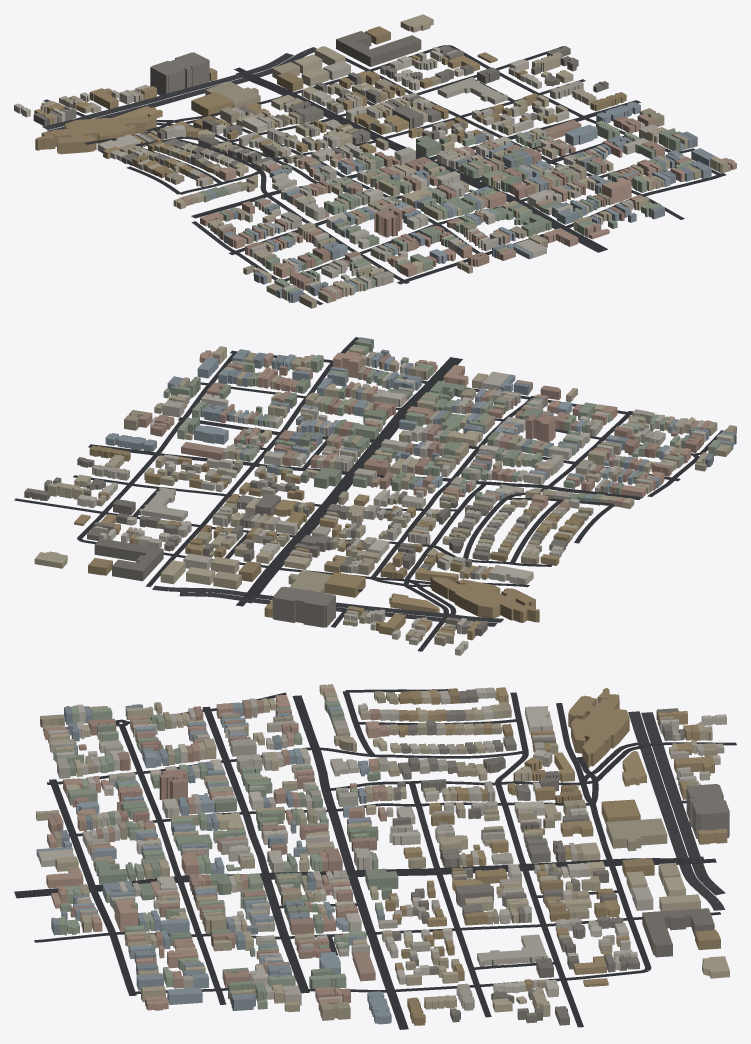
Rendered from tile_9_12.glb.
3 views of the same model, one above another, from view 1: azimuth 30°, elevation 25°; view 2: azimuth 150°, elevation 25°; view 3: azimuth 270°, elevation 25° (orthographic). The views are drawn at different scales.
Parts seen in each view (by area): view 1: bld_9_12, road_9_12; view 2: bld_9_12, road_9_12; view 3: bld_9_12, road_9_12.
Boxes of the visible parts, x1,y1,x2,y2 form: bld_9_12: [14, 14, 736, 308]; road_9_12: [42, 45, 726, 304]; bld_9_12: [24, 337, 736, 655]; road_9_12: [14, 337, 724, 651]; bld_9_12: [36, 684, 729, 1025]; road_9_12: [14, 689, 736, 1029].
Bounding box in the file's own units: 871 × 75.41 × 864.
